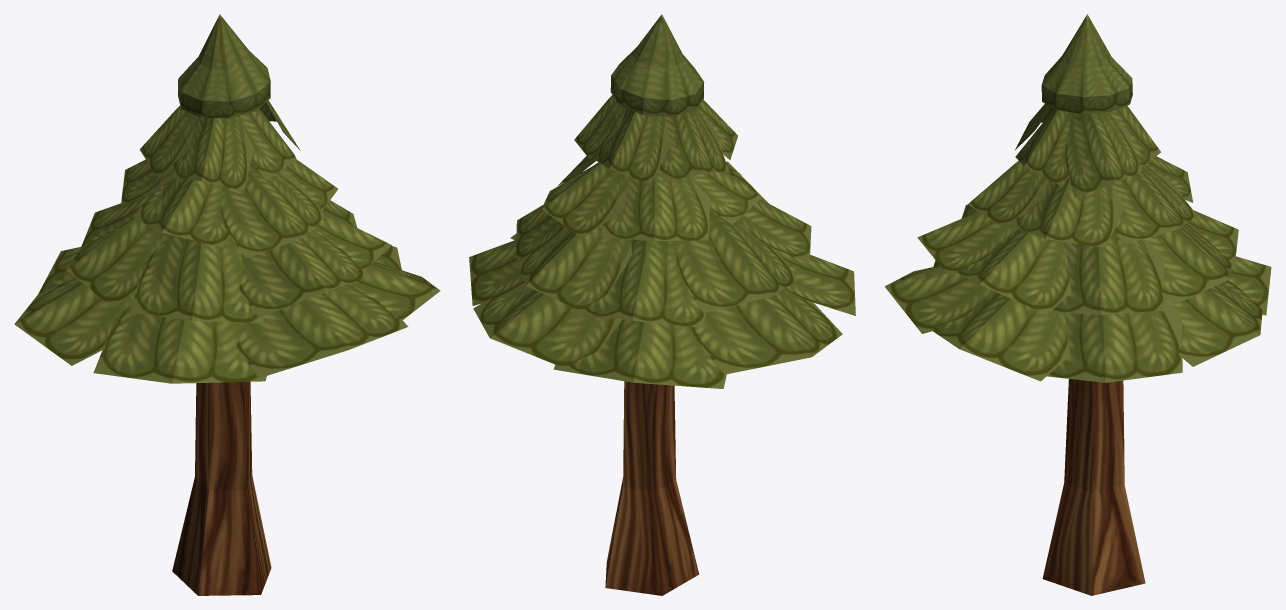
Rendered from N6TIYZO5D41STEOW4SQBKWRRG.glb.
The picture shows the model from 3 angles, left to right: view 1: azimuth 30°, elevation 25°; view 2: azimuth 150°, elevation 25°; view 3: azimuth 270°, elevation 25°; orthographic projection. The views are drawn at different scales.
Bounding box in the file's own units: 1.68 × 2.5 × 1.58.
Materials: 1 (1 with a texture image).
